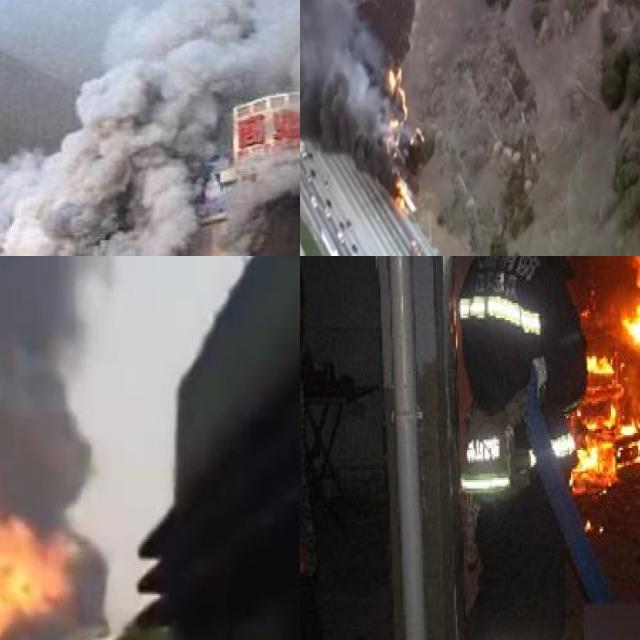fire: (567, 294, 640, 499), (0, 505, 85, 640), (617, 256, 640, 341), (387, 63, 406, 117), (392, 175, 410, 216)
smoke: (0, 0, 300, 256), (0, 256, 110, 640), (300, 0, 409, 185)
